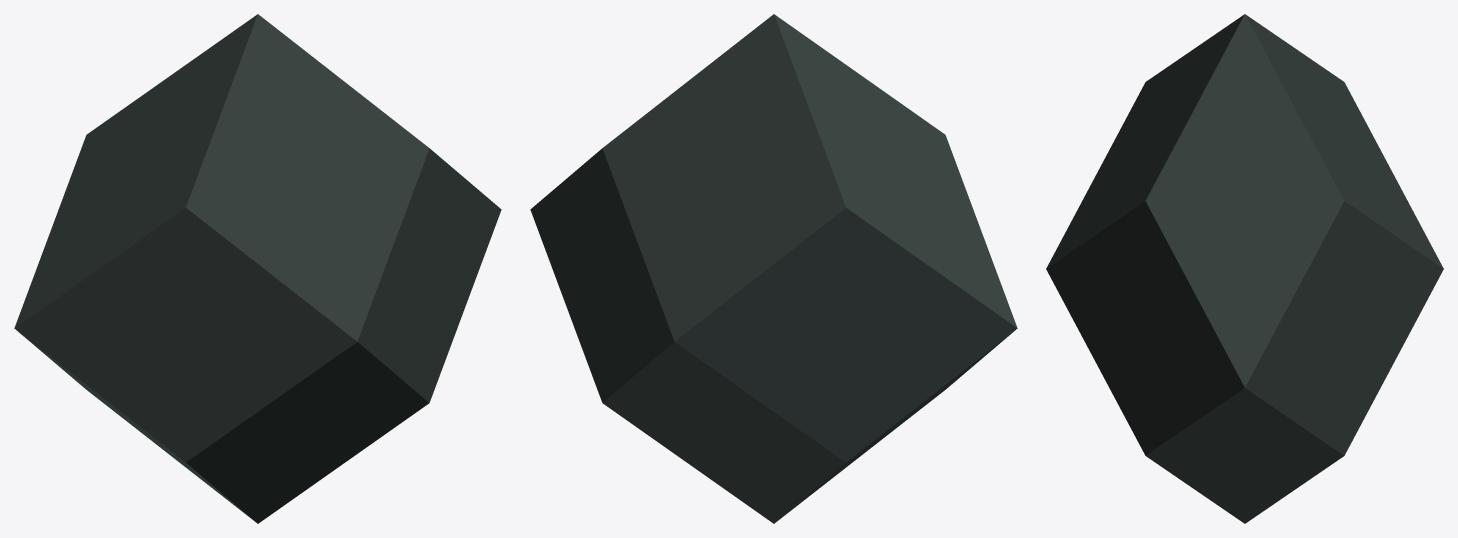
File: HormingEnemy.obj
The picture shows the model from 3 angles, left to right: view 1: azimuth 30°, elevation 25°; view 2: azimuth 150°, elevation 25°; view 3: azimuth 270°, elevation 25°; orthographic projection.
Parts seen in each view (by area): view 1: 立方体; view 2: 立方体; view 3: 立方体.
Boxes of the visible parts, box(x1,y1,x2,y2) form: 立方体: box(14, 14, 501, 523); 立方体: box(530, 14, 1017, 523); 立方体: box(1046, 14, 1443, 523).
Size of the model in its own units: 2.83 by 2.83 by 2.
